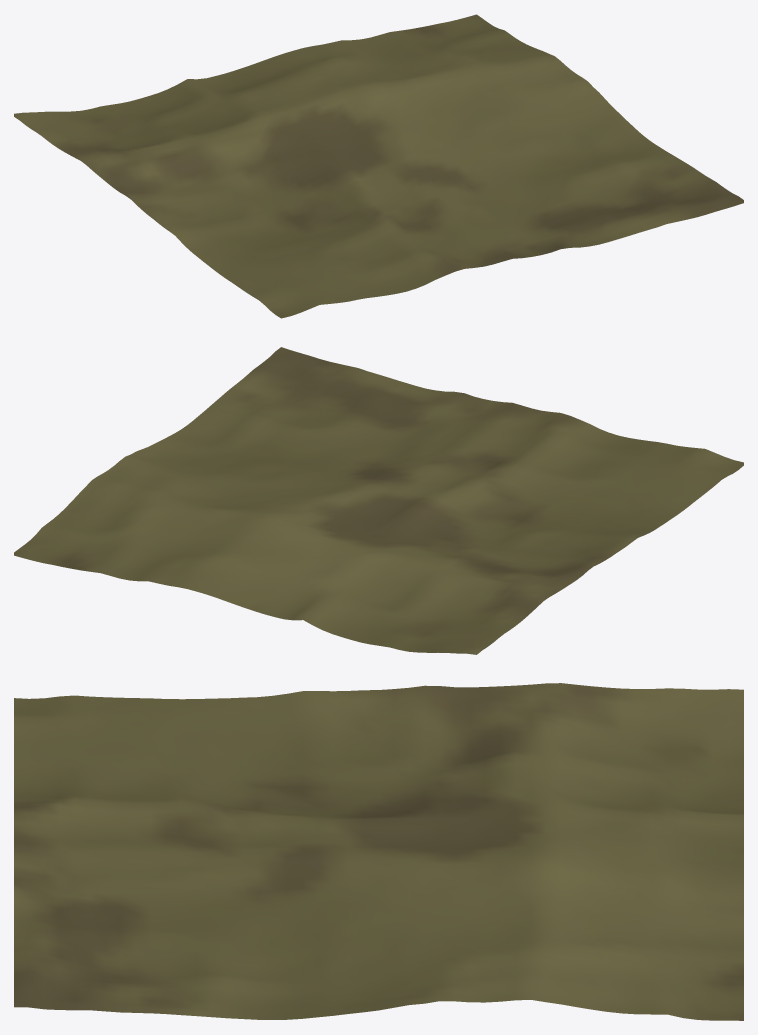
File: land_m_03_09.glb
3 views of the same model, one above another, from view 1: azimuth 30°, elevation 25°; view 2: azimuth 150°, elevation 25°; view 3: azimuth 270°, elevation 25° (orthographic). The views are drawn at different scales.
Parts seen in each view (by area): view 1: land_m_03_09; view 2: land_m_03_09; view 3: land_m_03_09.
Part boxes in pixels (box(x1,y1,x2,y2)): land_m_03_09: box(14, 14, 743, 318); land_m_03_09: box(14, 347, 743, 654); land_m_03_09: box(14, 683, 743, 1020).
Bounding box in the file's own units: 960 × 61.36 × 960.
